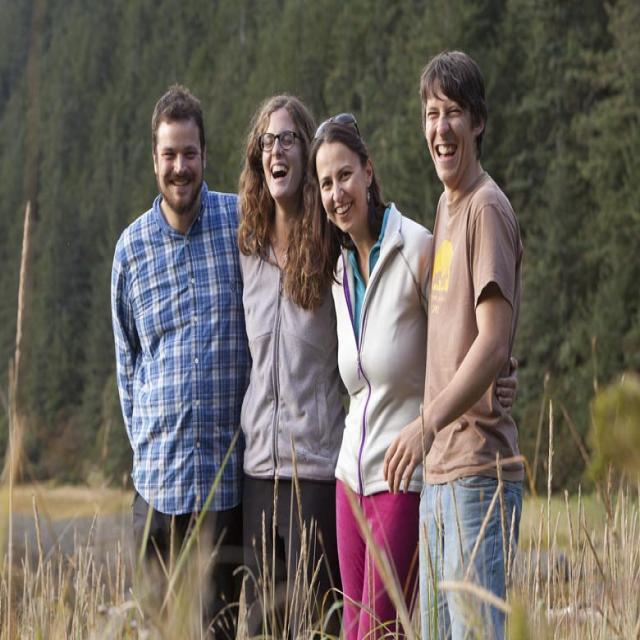body: (307, 106, 524, 639), (377, 46, 530, 638), (109, 82, 253, 640), (232, 89, 350, 638)
